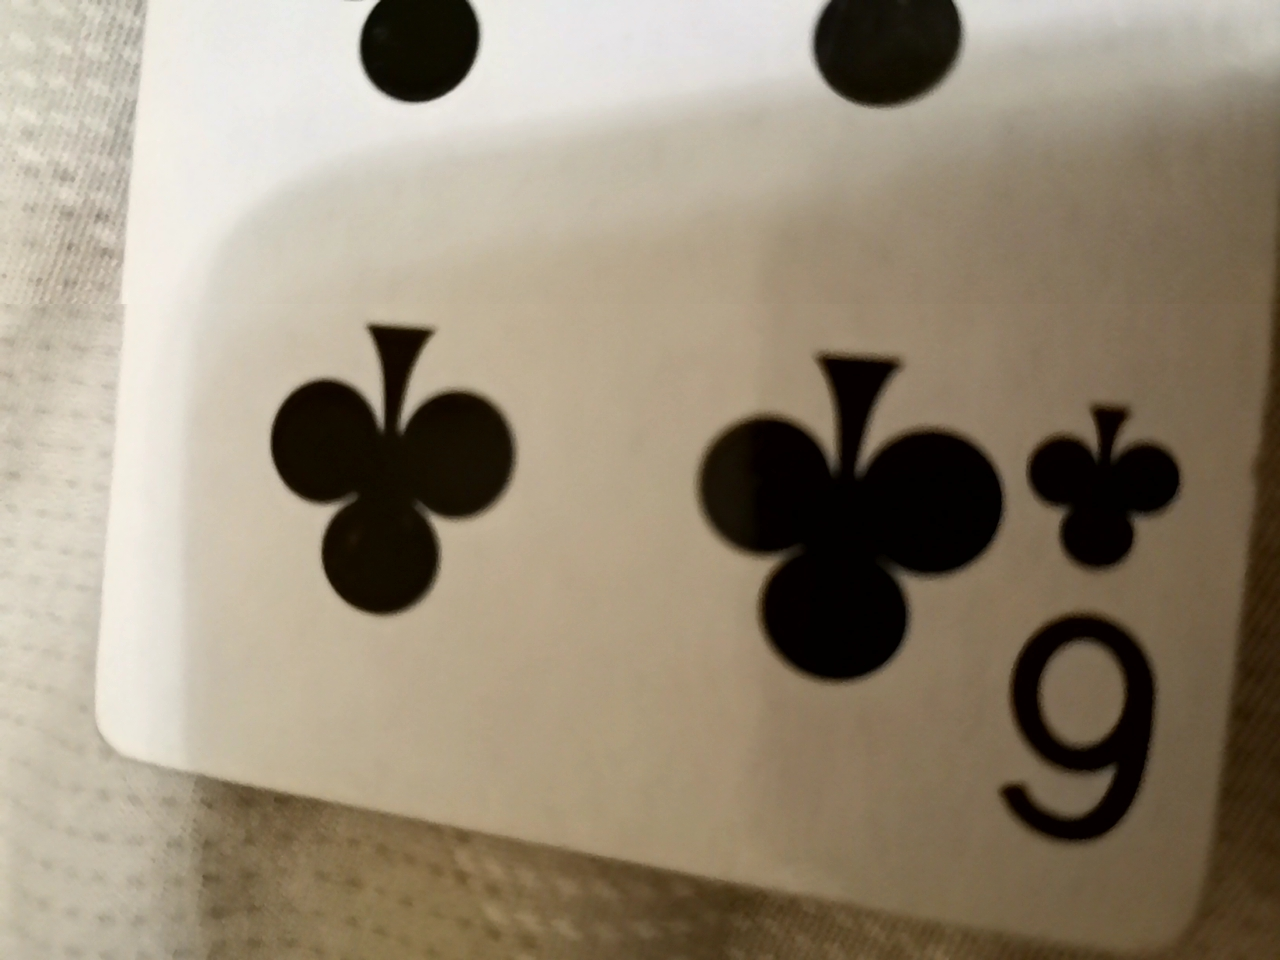mh 6: (81, 7, 1269, 948)
